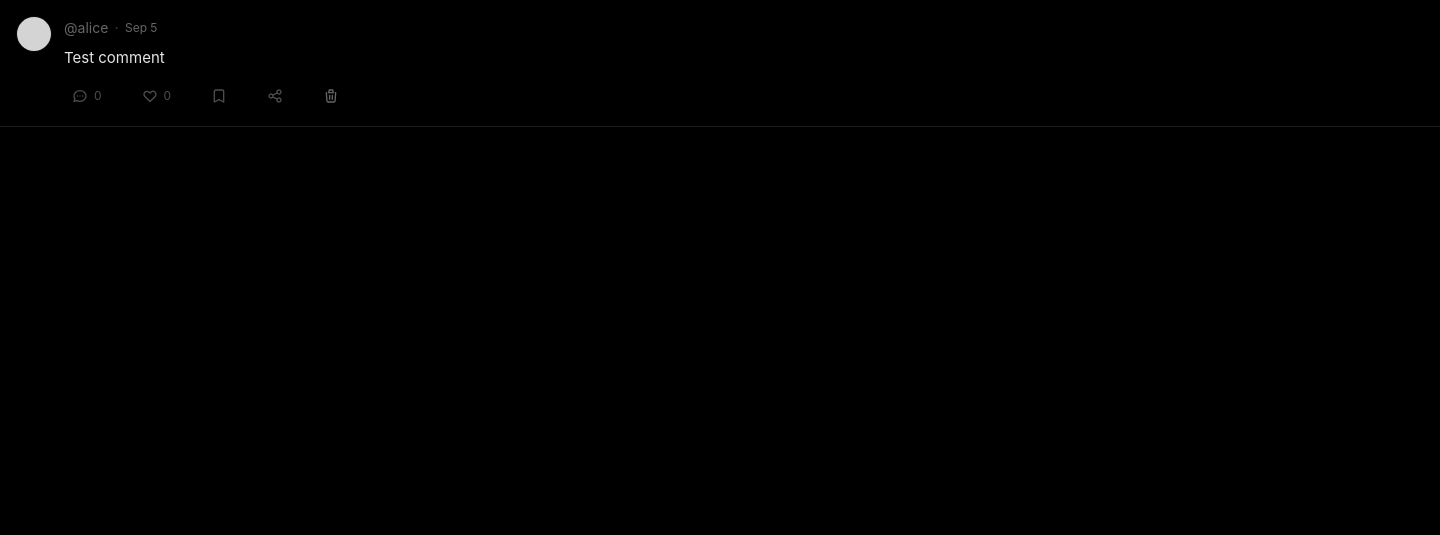
Test: CommentCard › opens the delete confirmation modal when the delete button is clicked
Click the button named "delete comment" at (331, 96), box 315,82 -> 347,110
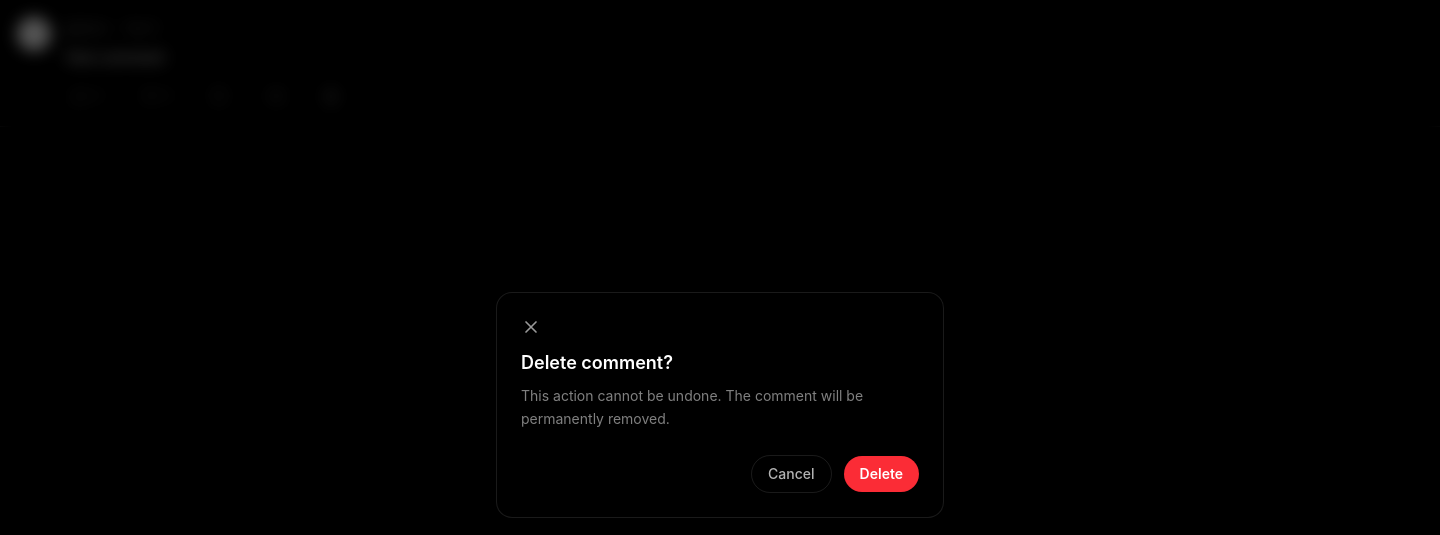
Expected: the heading "Delete comment?" is shown, 521,352 -> 673,373
